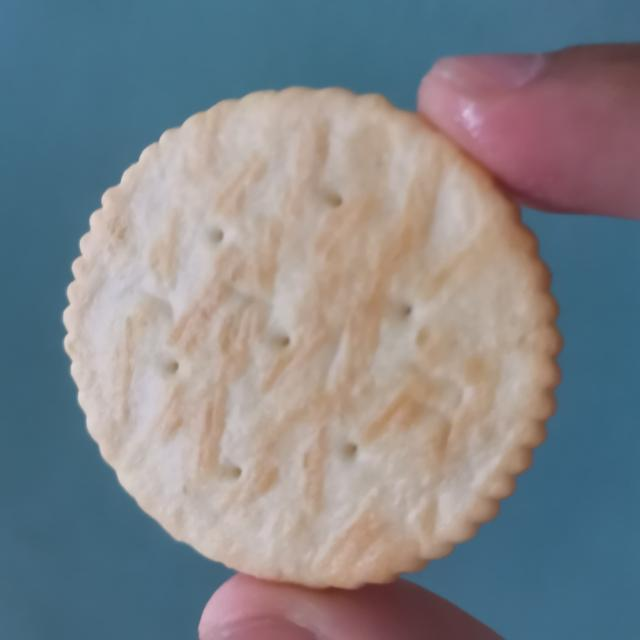Intact: (53, 76, 579, 596)
